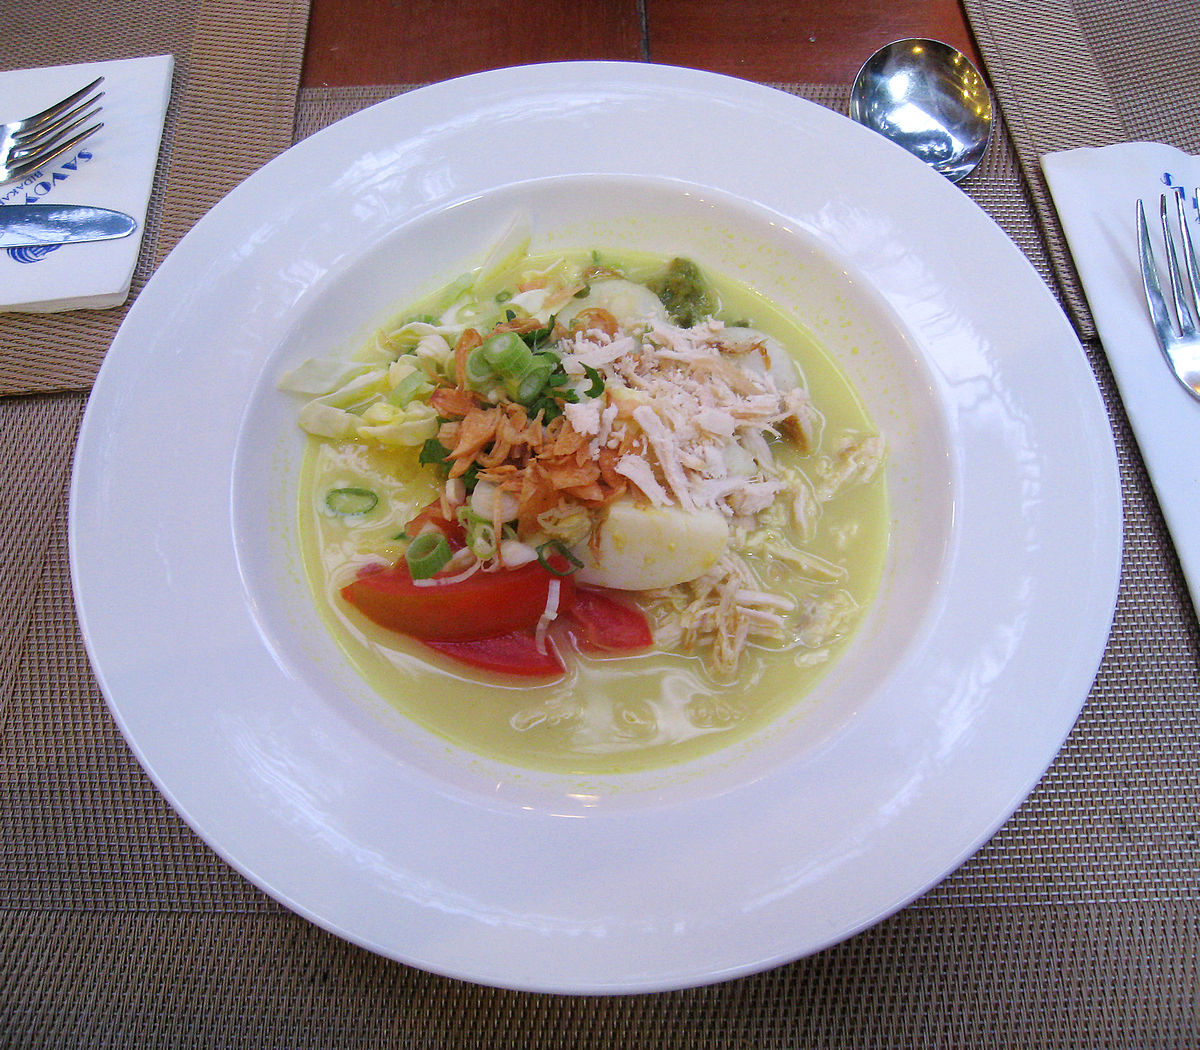soto: (260, 227, 899, 936)
